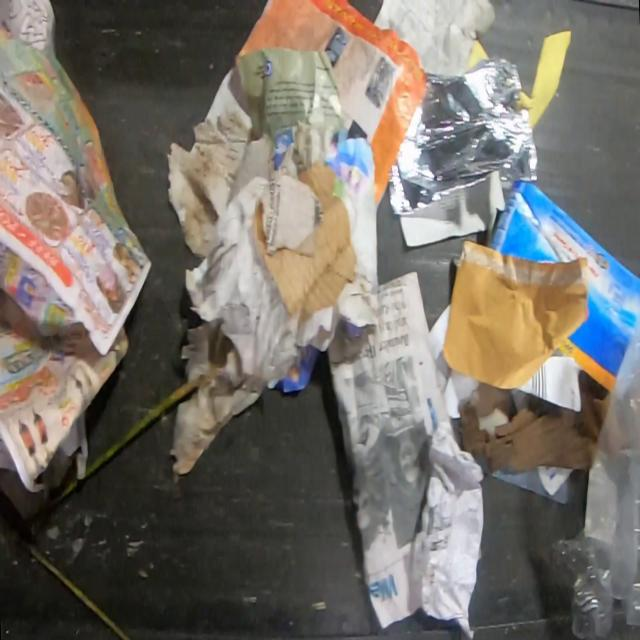cardboard: (250, 163, 356, 320)
soft_plastic: (548, 314, 639, 638), (386, 53, 538, 220)
